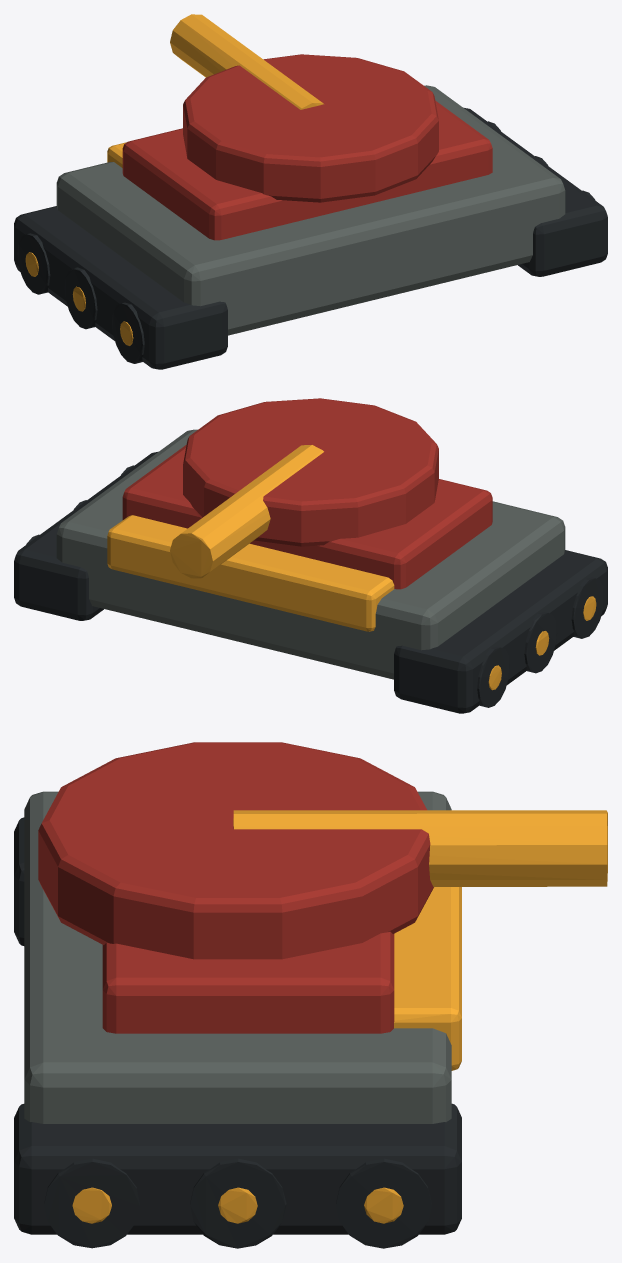
File: SM_Soviet_SU_GranitMBT_LOD1.fbx
The picture shows the model from 3 angles, top to bottom: view 1: azimuth 30°, elevation 25°; view 2: azimuth 150°, elevation 25°; view 3: azimuth 270°, elevation 25°; orthographic projection. The views are drawn at different scales.
Parts seen in each view (by area): view 1: LOD01_SM_Soviet_SU_GranitMBT; view 2: LOD01_SM_Soviet_SU_GranitMBT; view 3: LOD01_SM_Soviet_SU_GranitMBT.
Part boxes in pixels (left/top/right/bottom): LOD01_SM_Soviet_SU_GranitMBT: left=14, top=14, right=607, bottom=369; LOD01_SM_Soviet_SU_GranitMBT: left=14, top=398, right=607, bottom=713; LOD01_SM_Soviet_SU_GranitMBT: left=14, top=742, right=607, bottom=1248.
Size of the model in its own units: 525 by 376 by 183.
